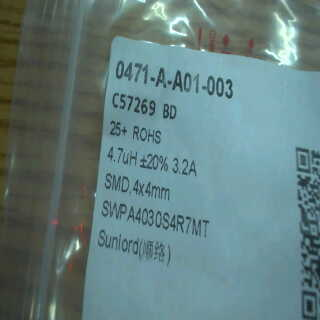4.7uH: (106, 146, 142, 169)
